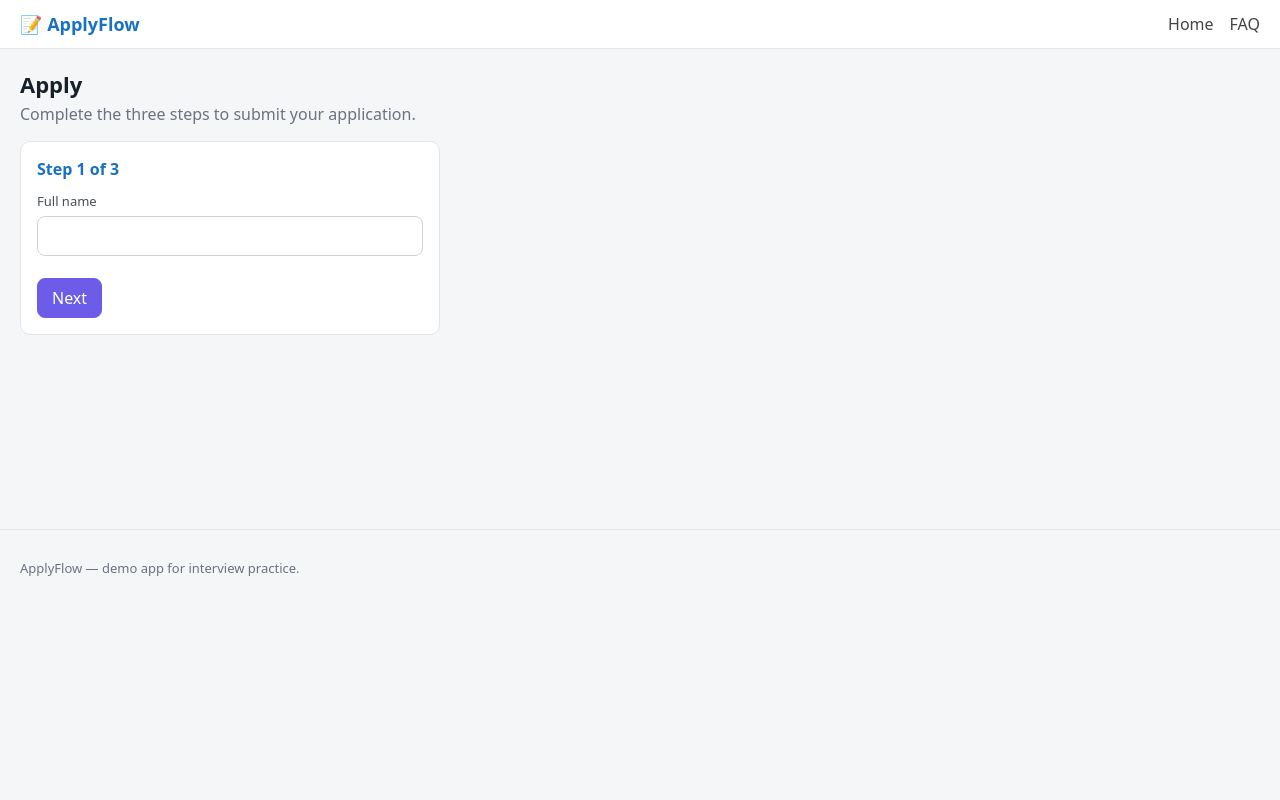
Test: m06 · ApplyFlow — app renders › navigates to the FAQ route via the navbar
Click the link with test id "nav-faq": (1245, 24) [1230,13,1260,35]
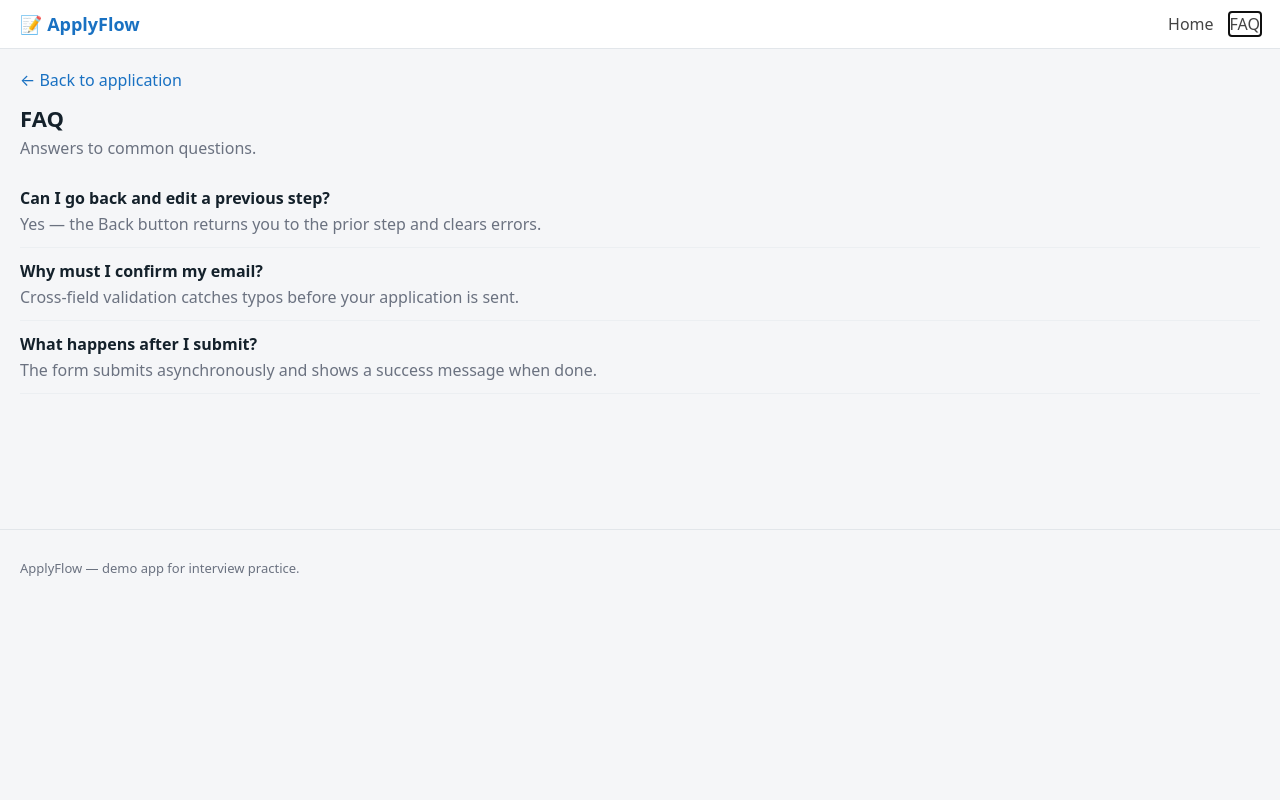
Expected: the element with test id "faq-page" is shown, [20,69,1260,394]
